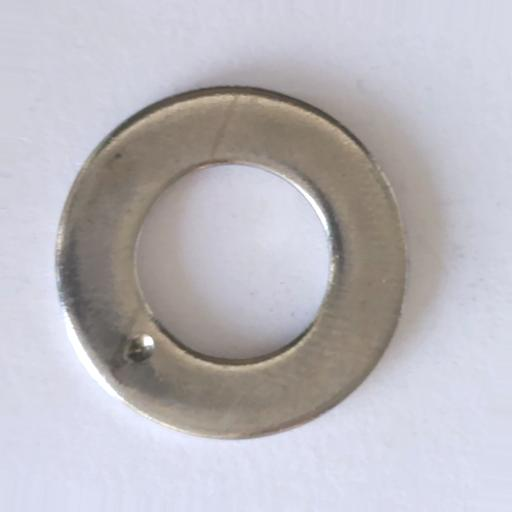circular_cavity: (126, 333, 157, 361)
